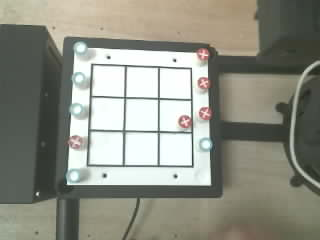blue circle: (71, 72, 86, 87), (73, 41, 87, 54), (69, 103, 83, 116), (66, 169, 80, 182), (199, 138, 212, 151)
board: (67, 42, 212, 185)
cells: (89, 132, 122, 164), (125, 133, 157, 165), (90, 98, 123, 129), (160, 133, 191, 165), (126, 99, 157, 130), (92, 66, 124, 96), (160, 68, 191, 98), (160, 100, 191, 130), (127, 67, 157, 97)
grid: (87, 64, 193, 167)
red cross: (68, 135, 83, 149), (198, 77, 211, 90), (178, 115, 191, 128), (196, 48, 209, 60), (199, 107, 212, 119)
